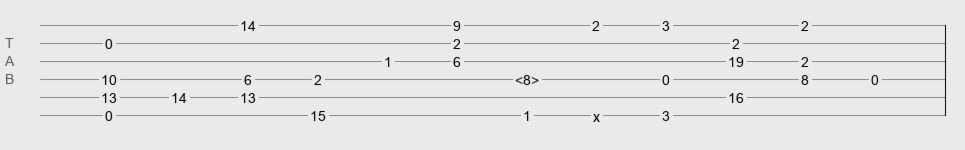0: (105, 108, 113, 118), (105, 36, 113, 46), (662, 72, 670, 82), (871, 72, 879, 82)
1: (384, 54, 392, 64), (523, 108, 531, 118)
10: (101, 72, 117, 82)
13: (101, 90, 117, 100), (240, 90, 256, 100)
14: (171, 90, 187, 100), (240, 18, 256, 28)
15: (310, 108, 326, 118)
16: (728, 90, 744, 100)
19: (728, 54, 744, 64)
2: (314, 72, 322, 82), (453, 36, 461, 46), (592, 18, 600, 28), (732, 36, 740, 46), (801, 18, 809, 28), (801, 54, 809, 64)
3: (662, 18, 670, 28), (662, 108, 670, 118)
6: (244, 72, 252, 82), (453, 54, 461, 64)
8: (801, 72, 809, 82)
9: (453, 18, 461, 28)
harmonic: (515, 72, 539, 82)
x: (593, 109, 600, 117)
